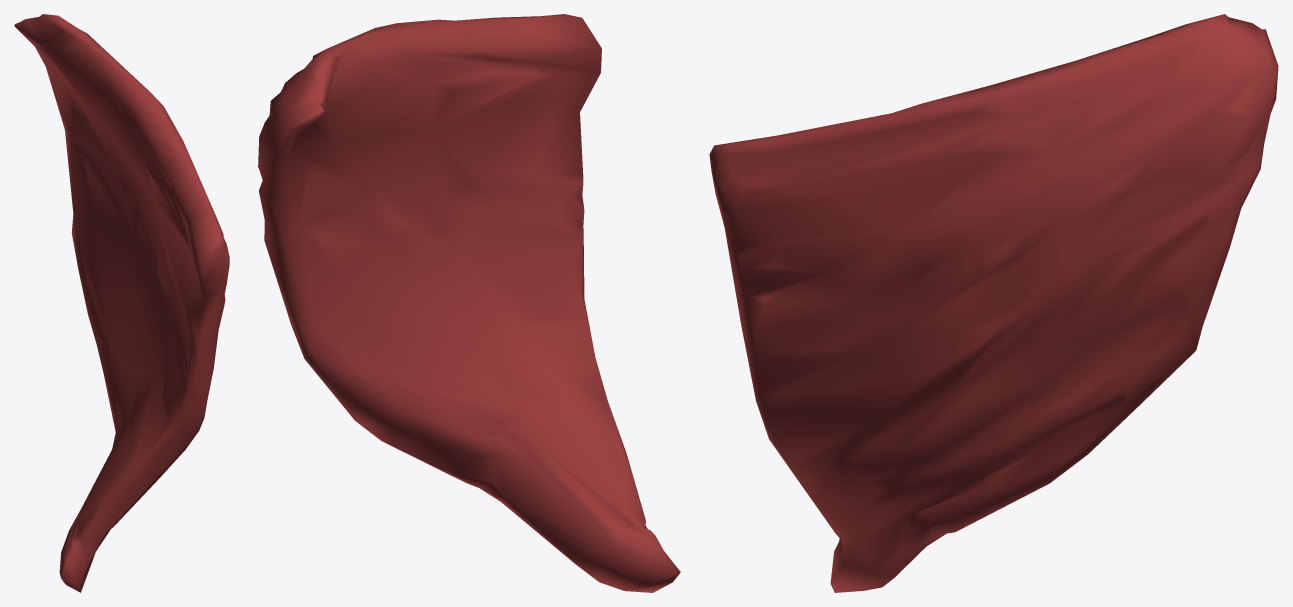
Rendered from bucinator-l.glb.
3 views of the same model, side by side, from view 1: azimuth 30°, elevation 25°; view 2: azimuth 150°, elevation 25°; view 3: azimuth 270°, elevation 25° (orthographic). The views are drawn at different scales.
Visible parts, largest first — view 1: Bucinator.l; view 2: Bucinator.l; view 3: Bucinator.l.
Boxes of the visible parts, x1,y1,x2,y2 form: Bucinator.l: (14,14,229,592); Bucinator.l: (258,14,680,592); Bucinator.l: (709,14,1278,592).
Size of the model in its own units: 0.015 by 0.0363 by 0.0289.
